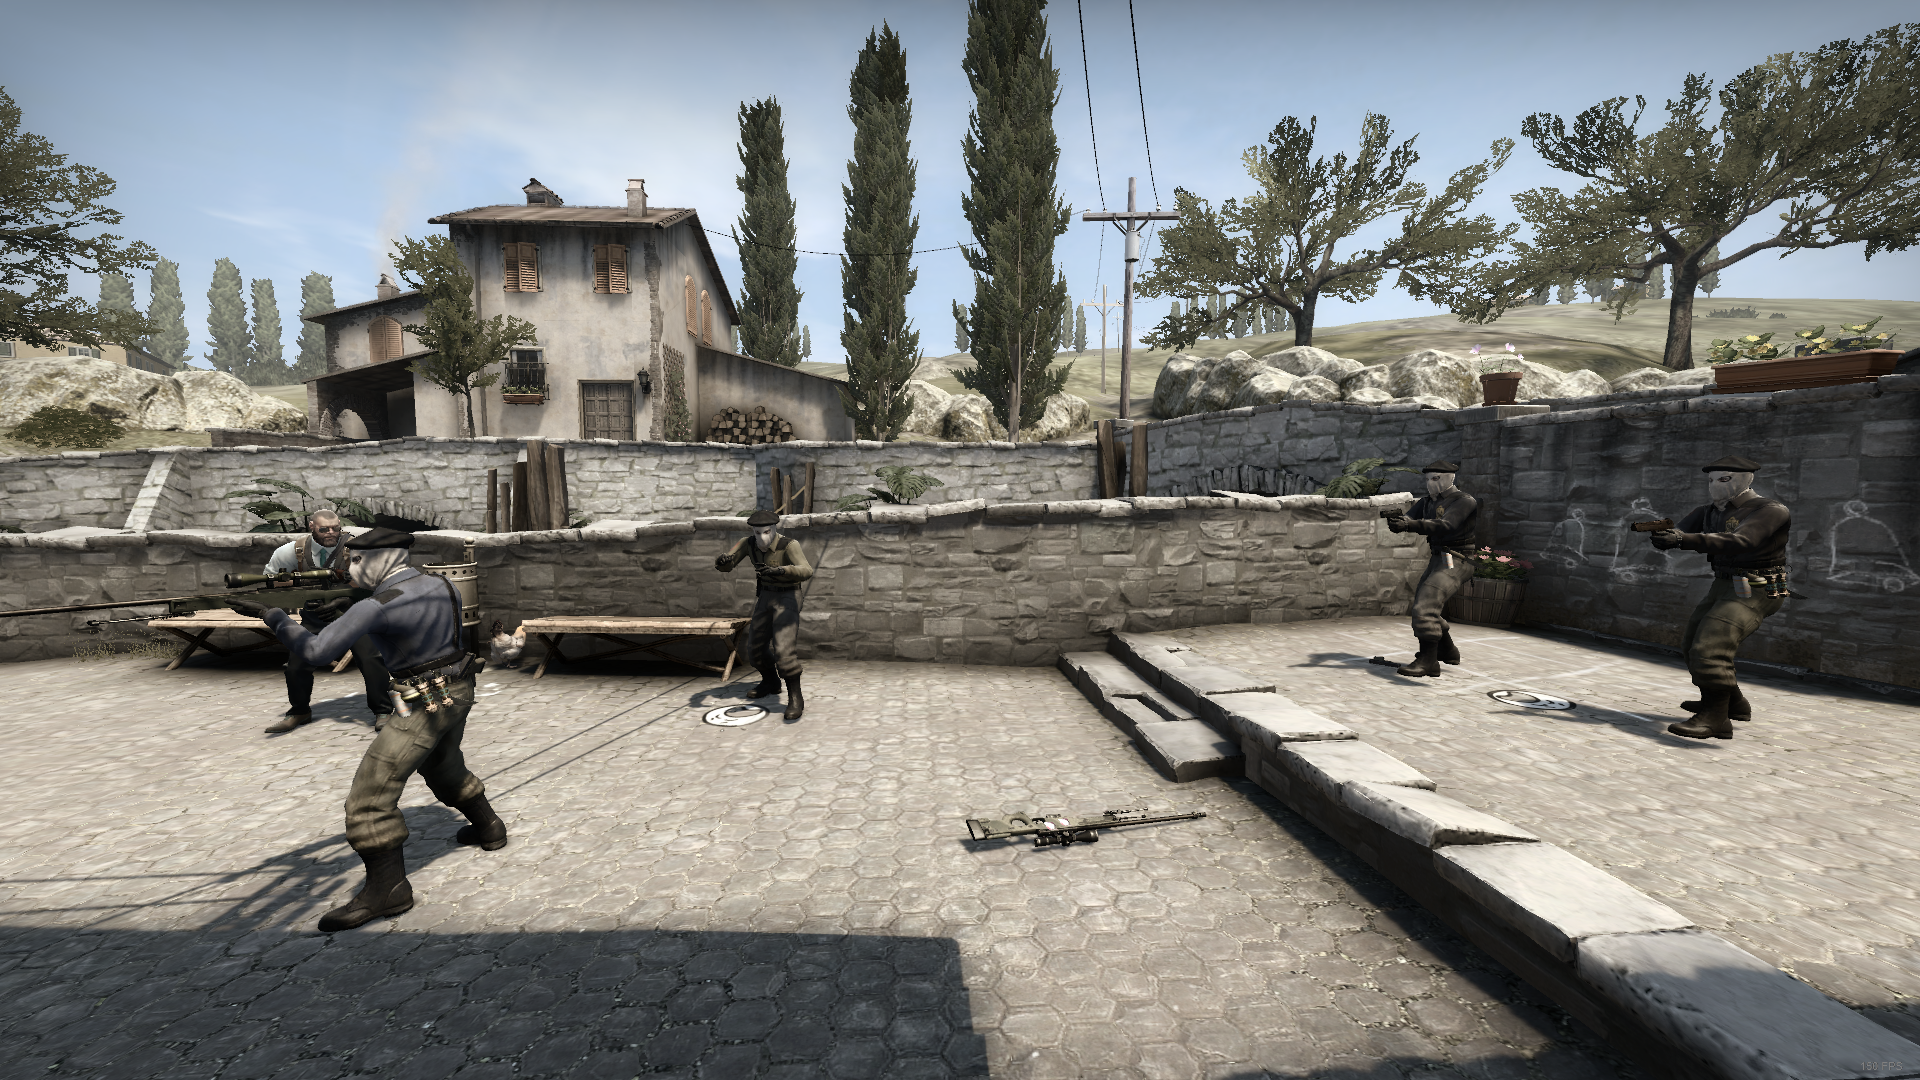t: (315, 524, 514, 935), (1659, 462, 1797, 754), (713, 512, 829, 728), (1379, 460, 1487, 683)
